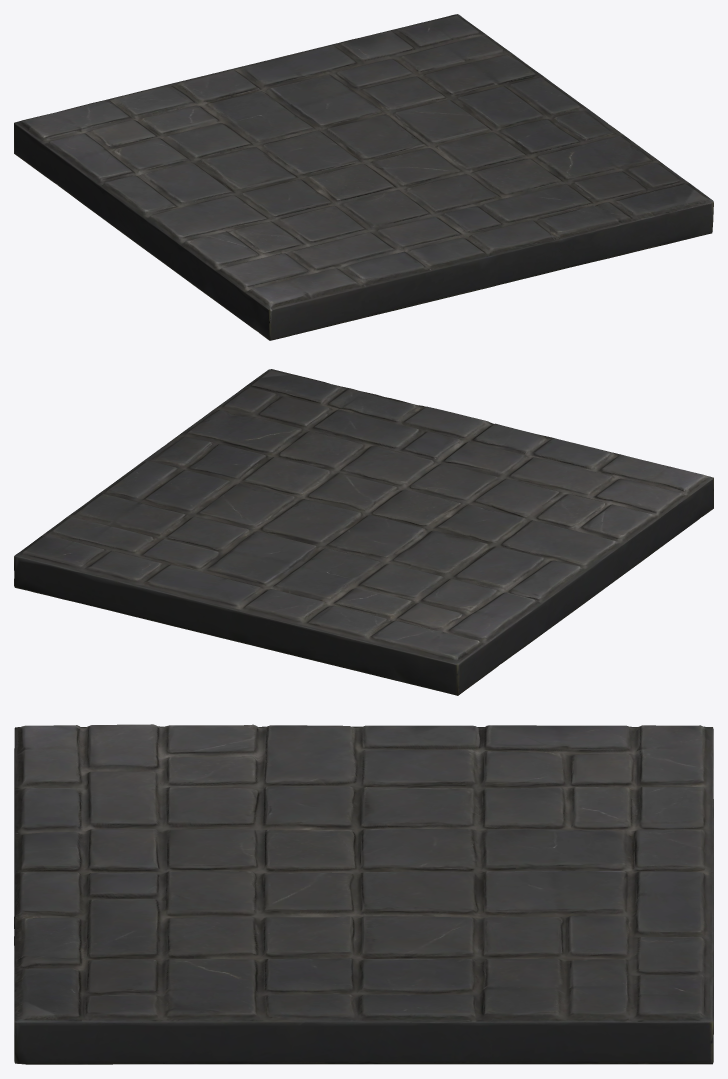
File: pedra2_DKB.glb
3 renders of one model, top to bottom at view 1: azimuth 30°, elevation 25°; view 2: azimuth 150°, elevation 25°; view 3: azimuth 270°, elevation 25°, orthographic. The views are drawn at different scales.
Bounding box in the file's own units: 2 × 0.1537 × 2.
Materials: 1 (1 with a texture image).
